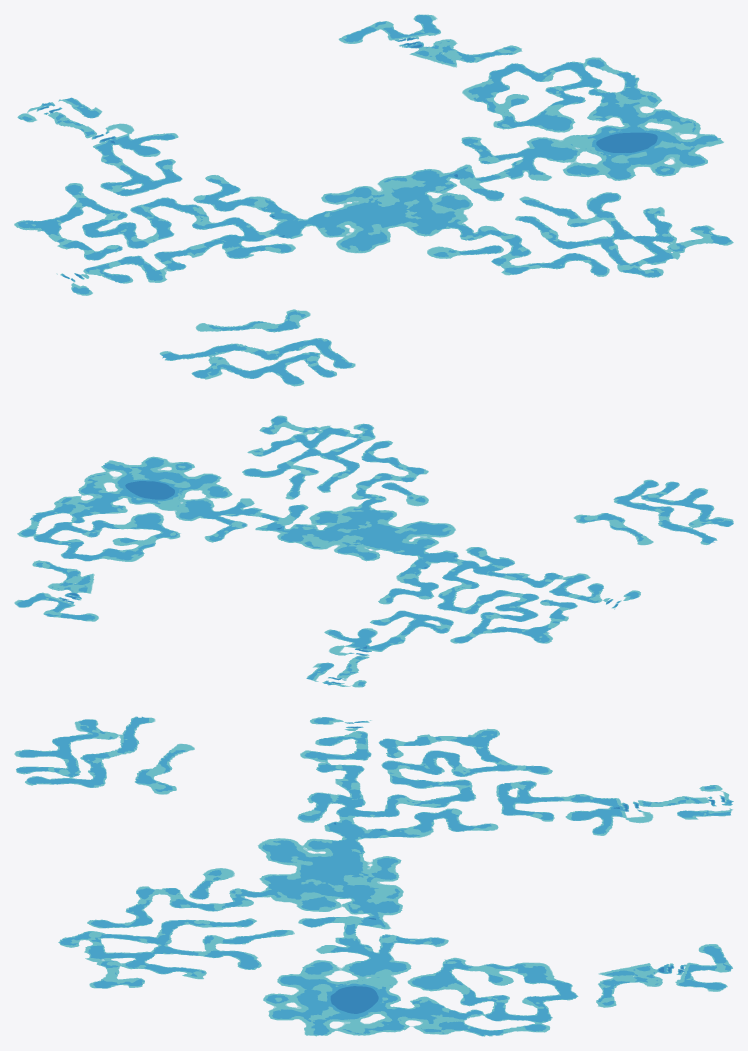
Rendered from Dungeon-2-Water.fbx.
3 views of the same model, one above another, from view 1: azimuth 30°, elevation 25°; view 2: azimuth 150°, elevation 25°; view 3: azimuth 270°, elevation 25° (orthographic). The views are drawn at different scales.
Parts seen in each view (by area): view 1: Dungeon-2-Water; view 2: Dungeon-2-Water; view 3: Dungeon-2-Water.
Boxes of the visible parts, x1,y1,x2,y2 form: Dungeon-2-Water: [14, 14, 733, 386]; Dungeon-2-Water: [14, 415, 733, 687]; Dungeon-2-Water: [14, 716, 733, 1036].
Size of the model in its own units: 131 by 0 by 125.
